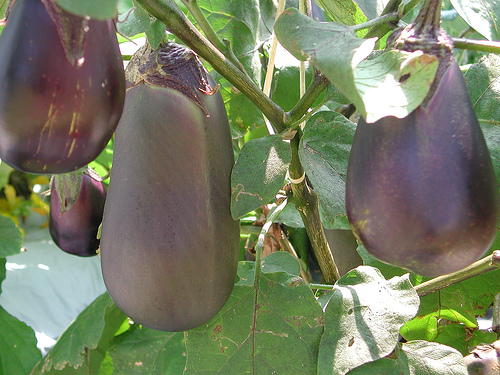eggplant: (92, 12, 247, 339), (338, 3, 434, 287), (3, 1, 131, 180), (43, 152, 119, 260)
